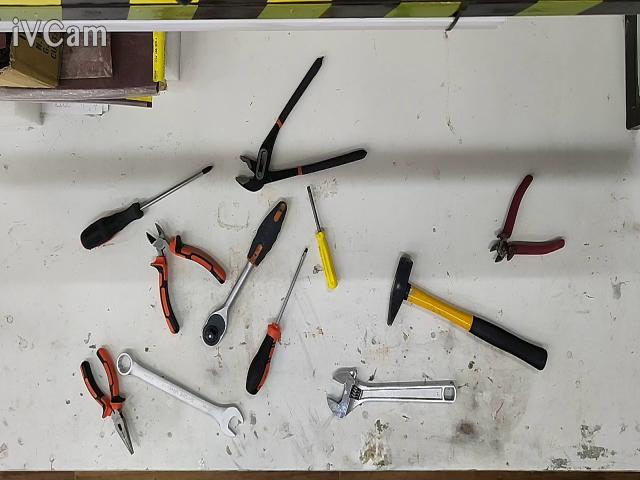Adjustable spanner: (327, 369, 456, 418)
Cutting pliers: (146, 223, 226, 335), (489, 175, 565, 262)
Gas wrench: (235, 57, 368, 192)
Hammer: (387, 257, 548, 370)
Needle-nose pliers: (80, 348, 134, 455)
Ratchet: (202, 200, 288, 346)
Screwdriver: (80, 166, 212, 248), (245, 247, 309, 395), (307, 186, 338, 290)
Wrench: (116, 352, 243, 437)
